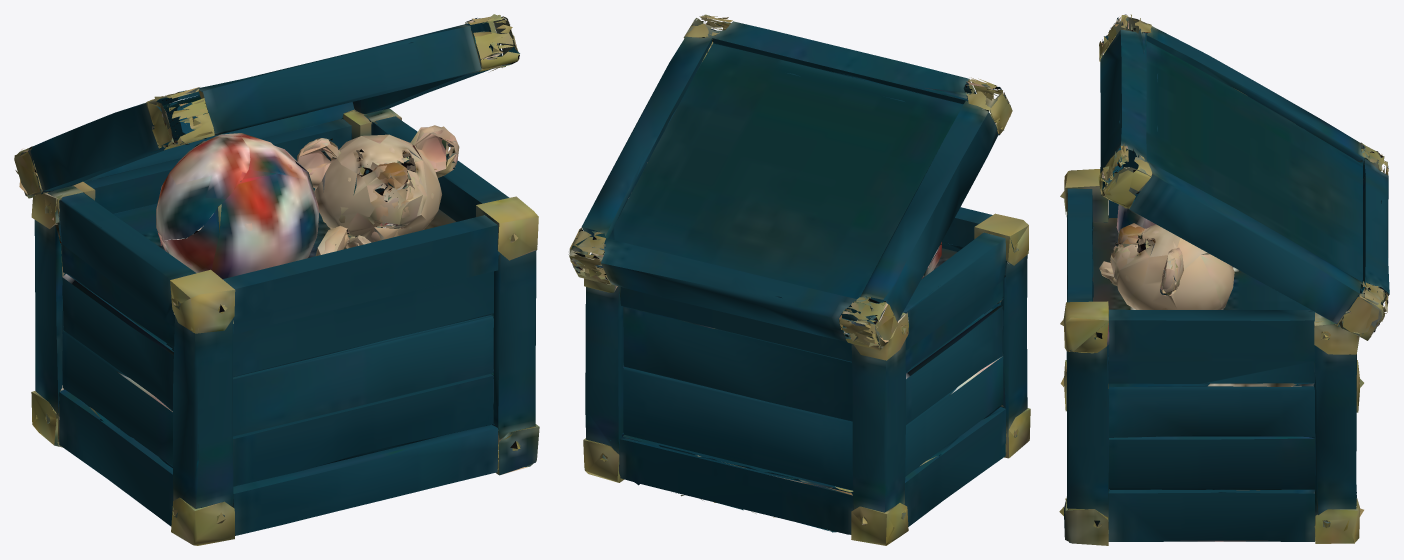
File: baul.glb
3 renders of one model, left to right at view 1: azimuth 30°, elevation 25°; view 2: azimuth 150°, elevation 25°; view 3: azimuth 270°, elevation 25°, orthographic. The views are drawn at different scales.
Visible parts, largest first — view 1: objeto; view 2: objeto; view 3: objeto.
Boxes of the visible parts, x1,y1,x2,y2 form: objeto: [14, 14, 539, 545]; objeto: [568, 14, 1030, 545]; objeto: [1059, 14, 1389, 545].
Size of the model in its own units: 0.6742 by 0.7866 by 0.6054.
1 material, 1 textured.
